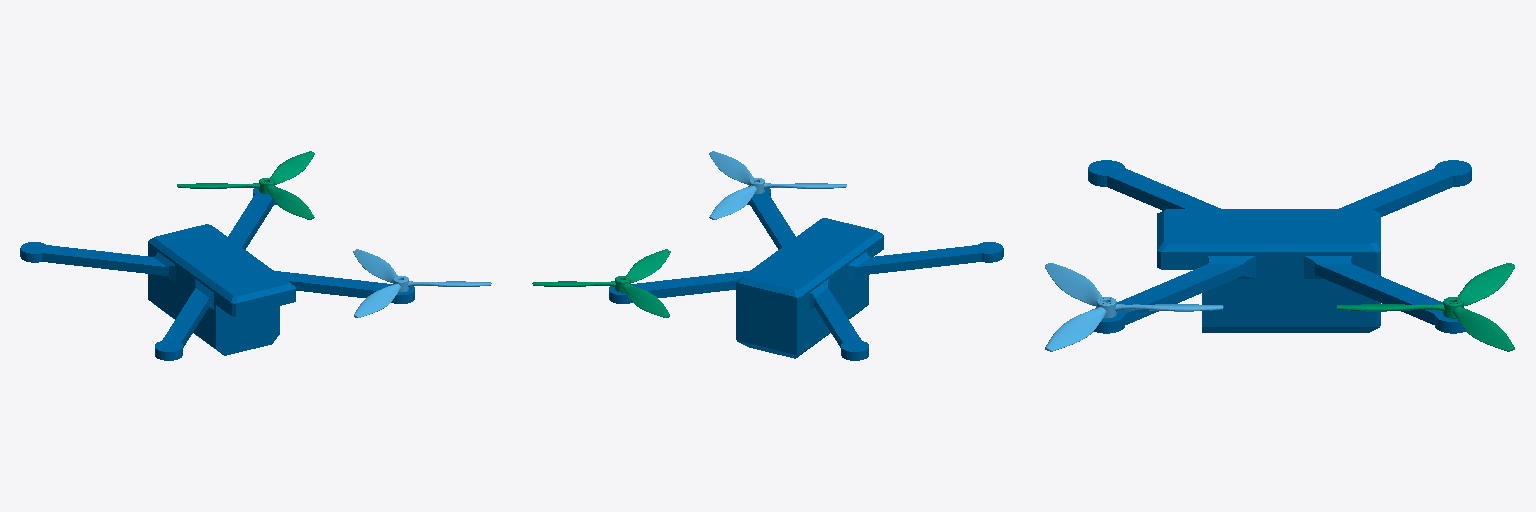
robot.urdf — FAST_ASSEMBLY:
<?xml version='1.0' encoding='utf-8'?>
<robot name="FAST_ASSEMBLY">
    <link name="HELICE_PRUEBA-v9_Helice_CCW_1">
        <inertial>
            <origin xyz="6.544494262705567e-09 2.7501721717679503e-08 0.006490106958943438" rpy="0.0 0.0 0.0" />
            <mass value="0.018439981901447588" />
            <inertia ixx="2.2682595641485e-05" iyy="2.2682593734411344e-05" izz="4.5211675809134455e-05" ixy="4.360944173750367e-12" iyz="1.5944500452865144e-12" ixz="8.80318577443034e-13" />
        </inertial>
        <visual name="HELICE_PRUEBA-v9_Helice_CCW_1_visual">
            <origin xyz="0.0 0.0 0.0" rpy="0.0 0.0 0.0" />
            <geometry>
                <mesh filename="meshes/HELICE_PRUEBA-v9_Helice_CCW_1.stl" scale="0.001 0.001 0.001" />
            </geometry>
        </visual>
        <collision name="HELICE_PRUEBA-v9_Helice_CCW_1_collision">
            <origin xyz="0.0 0.0 0.0" rpy="0.0 0.0 0.0" />
            <geometry>
                <mesh filename="meshes/HELICE_PRUEBA-v9_Helice_CCW_1.stl" scale="0.001 0.001 0.001" />
            </geometry>
        </collision>
    </link>
    <link name="HELICE_PRUEBA-v9_Helice_CW_1">
        <inertial>
            <origin xyz="-6.544494297509936e-09 2.7501721719963143e-08 0.006490106958943441" rpy="0.0 0.0 0.0" />
            <mass value="0.018439981901447793" />
            <inertia ixx="2.2682595641488563e-05" iyy="2.2682593734416386e-05" izz="4.5211675809136433e-05" ixy="-4.360944152345045e-12" iyz="1.594450010186926e-12" ixz="-8.803185294741568e-13" />
        </inertial>
        <visual name="HELICE_PRUEBA-v9_Helice_CW_1_visual">
            <origin xyz="0.0 0.0 0.0" rpy="0.0 0.0 0.0" />
            <geometry>
                <mesh filename="meshes/HELICE_PRUEBA-v9_Helice_CW_1.stl" scale="0.001 0.001 0.001" />
            </geometry>
        </visual>
        <collision name="HELICE_PRUEBA-v9_Helice_CW_1_collision">
            <origin xyz="0.0 0.0 0.0" rpy="0.0 0.0 0.0" />
            <geometry>
                <mesh filename="meshes/HELICE_PRUEBA-v9_Helice_CW_1.stl" scale="0.001 0.001 0.001" />
            </geometry>
        </collision>
    </link>
    <link name="HELICE_PRUEBA-v9_Helice_CCW_2">
        <inertial>
            <origin xyz="6.54449429507819e-09 2.750172170130906e-08 0.006490106958943451" rpy="0.0 0.0 0.0" />
            <mass value="0.018439981901447588" />
            <inertia ixx="2.2682595641484924e-05" iyy="2.268259373441156e-05" izz="4.521167580913471e-05" ixy="4.360944118281119e-12" iyz="1.5944500039835182e-12" ixz="8.803186207402382e-13" />
        </inertial>
        <visual name="HELICE_PRUEBA-v9_Helice_CCW_2_visual">
            <origin xyz="0.0 0.0 0.0" rpy="0.0 0.0 0.0" />
            <geometry>
                <mesh filename="meshes/HELICE_PRUEBA-v9_Helice_CCW_2.stl" scale="0.001 0.001 0.001" />
            </geometry>
        </visual>
        <collision name="HELICE_PRUEBA-v9_Helice_CCW_2_collision">
            <origin xyz="0.0 0.0 0.0" rpy="0.0 0.0 0.0" />
            <geometry>
                <mesh filename="meshes/HELICE_PRUEBA-v9_Helice_CCW_2.stl" scale="0.001 0.001 0.001" />
            </geometry>
        </collision>
    </link>
    <link name="HELICE_PRUEBA-v9_Helice_CW_2">
        <inertial>
            <origin xyz="-6.544494299851757e-09 2.7501721737510566e-08 0.006490106958943441" rpy="0.0 0.0 0.0" />
            <mass value="0.018439981901447793" />
            <inertia ixx="2.2682595641488847e-05" iyy="2.2682593734416576e-05" izz="4.5211675809136433e-05" ixy="-4.360944181305203e-12" iyz="1.5944500357861199e-12" ixz="-8.803185544247342e-13" />
        </inertial>
        <visual name="HELICE_PRUEBA-v9_Helice_CW_2_visual">
            <origin xyz="0.0 0.0 0.0" rpy="0.0 0.0 0.0" />
            <geometry>
                <mesh filename="meshes/HELICE_PRUEBA-v9_Helice_CW_2.stl" scale="0.001 0.001 0.001" />
            </geometry>
        </visual>
        <collision name="HELICE_PRUEBA-v9_Helice_CW_2_collision">
            <origin xyz="0.0 0.0 0.0" rpy="0.0 0.0 0.0" />
            <geometry>
                <mesh filename="meshes/HELICE_PRUEBA-v9_Helice_CW_2.stl" scale="0.001 0.001 0.001" />
            </geometry>
        </collision>
    </link>
    <link name="FAST_DESING-v21_DRONE_FAST">
        <inertial>
            <origin xyz="1.3736141586215828e-17 -0.0008831251289440345 0.04477388860190273" rpy="0.0 0.0 0.0" />
            <mass value="1.0856969754697692" />
            <inertia ixx="0.003780645171860393" iyy="0.0023387732420122606" izz="0.00501917926596388" ixy="-8.754448500210822e-18" iyz="0.0001339506676600704" ixz="3.3212538046287067e-18" />
        </inertial>
        <visual name="FAST_DESING-v21_DRONE_FAST_visual">
            <origin xyz="0.0 0.0 0.0" rpy="0.0 0.0 0.0" />
            <geometry>
                <mesh filename="meshes/FAST_DESING-v21_DRONE_FAST.stl" scale="0.001 0.001 0.001" />
            </geometry>
        </visual>
        <collision name="FAST_DESING-v21_DRONE_FAST_collision">
            <origin xyz="0.0 0.0 0.0" rpy="0.0 0.0 0.0" />
            <geometry>
                <mesh filename="meshes/FAST_DESING-v21_DRONE_FAST.stl" scale="0.001 0.001 0.001" />
            </geometry>
        </collision>
    </link>
    <joint name="FAST_DESING-v21_DRONE_FAST_Revolución-5" type="continuous">
        <origin xyz="-0.13699495344023044 -0.14099495252821614 0.06699999703797584" rpy="-3.330669073875468e-16 -1.6653345369377375e-16 -1.570796326794898" />
        <parent link="FAST_DESING-v21_DRONE_FAST" />
        <child link="HELICE_PRUEBA-v9_Helice_CCW_1" />
        <axis xyz="-4.930380657631324e-32 0.0 1.0" />
    </joint>
    <joint name="FAST_DESING-v21_DRONE_FAST_Revolución-12" type="continuous">
        <origin xyz="0.13699494655976935 -0.1409949525282165 0.06699999703797575" rpy="-3.330669073875468e-16 -1.6653345369377375e-16 -1.570796326794898" />
        <parent link="FAST_DESING-v21_DRONE_FAST" />
        <child link="HELICE_PRUEBA-v9_Helice_CW_1" />
        <axis xyz="-4.930380657631324e-32 0.0 1.0" />
    </joint>
    <joint name="FAST_DESING-v21_DRONE_FAST_Revolución-15" type="continuous">
        <origin xyz="-0.13699495344023008 0.1329949474717836 0.0669999970379758" rpy="-3.330669073875468e-16 -1.6653345369377375e-16 -1.570796326794898" />
        <parent link="FAST_DESING-v21_DRONE_FAST" />
        <child link="HELICE_PRUEBA-v9_Helice_CW_2" />
        <axis xyz="-4.930380657631324e-32 0.0 1.0" />
    </joint>
    <joint name="FAST_DESING-v21_DRONE_FAST_Revolución-16" type="continuous">
        <origin xyz="0.1369949465597697 0.13299494747178325 0.06699999703797571" rpy="-3.330669073875468e-16 -1.6653345369377375e-16 -1.570796326794898" />
        <parent link="FAST_DESING-v21_DRONE_FAST" />
        <child link="HELICE_PRUEBA-v9_Helice_CCW_2" />
        <axis xyz="-4.930380657631324e-32 0.0 1.0" />
    </joint>
</robot>

--- Render facts (derived) ---
3 views of the same robot in one strip: view 1: azimuth 30°, elevation 25°; view 2: azimuth 150°, elevation 25°; view 3: azimuth 270°, elevation 25° (orthographic).
Robot: FAST_ASSEMBLY — 5 links, 4 joints (4 continuous); root link FAST_DESING-v21_DRONE_FAST; default pose: every joint at zero.
Visible links, largest first — view 1: FAST_DESING-v21_DRONE_FAST, HELICE_PRUEBA-v9_Helice_CW_1, HELICE_PRUEBA-v9_Helice_CCW_2; view 2: FAST_DESING-v21_DRONE_FAST, HELICE_PRUEBA-v9_Helice_CW_1, HELICE_PRUEBA-v9_Helice_CCW_2; view 3: FAST_DESING-v21_DRONE_FAST, HELICE_PRUEBA-v9_Helice_CW_1, HELICE_PRUEBA-v9_Helice_CCW_2.
Link boxes in pixels (bbox=[...]): FAST_DESING-v21_DRONE_FAST: bbox=[20, 186, 414, 360]; HELICE_PRUEBA-v9_Helice_CW_1: bbox=[353, 249, 491, 317]; HELICE_PRUEBA-v9_Helice_CCW_2: bbox=[177, 151, 314, 219]; FAST_DESING-v21_DRONE_FAST: bbox=[609, 186, 1003, 360]; HELICE_PRUEBA-v9_Helice_CW_1: bbox=[709, 151, 846, 219]; HELICE_PRUEBA-v9_Helice_CCW_2: bbox=[532, 249, 670, 317]; FAST_DESING-v21_DRONE_FAST: bbox=[1088, 160, 1471, 333]; HELICE_PRUEBA-v9_Helice_CW_1: bbox=[1045, 263, 1223, 351]; HELICE_PRUEBA-v9_Helice_CCW_2: bbox=[1336, 263, 1514, 351].
Bounding box of the posed robot: 0.3699 × 0.3721 × 0.08 m (x, y, z).
3 mesh visuals loaded from 5 distinct referenced files (3 binary STL); not drawn: 2 (reference not matched to a file when rendering).
